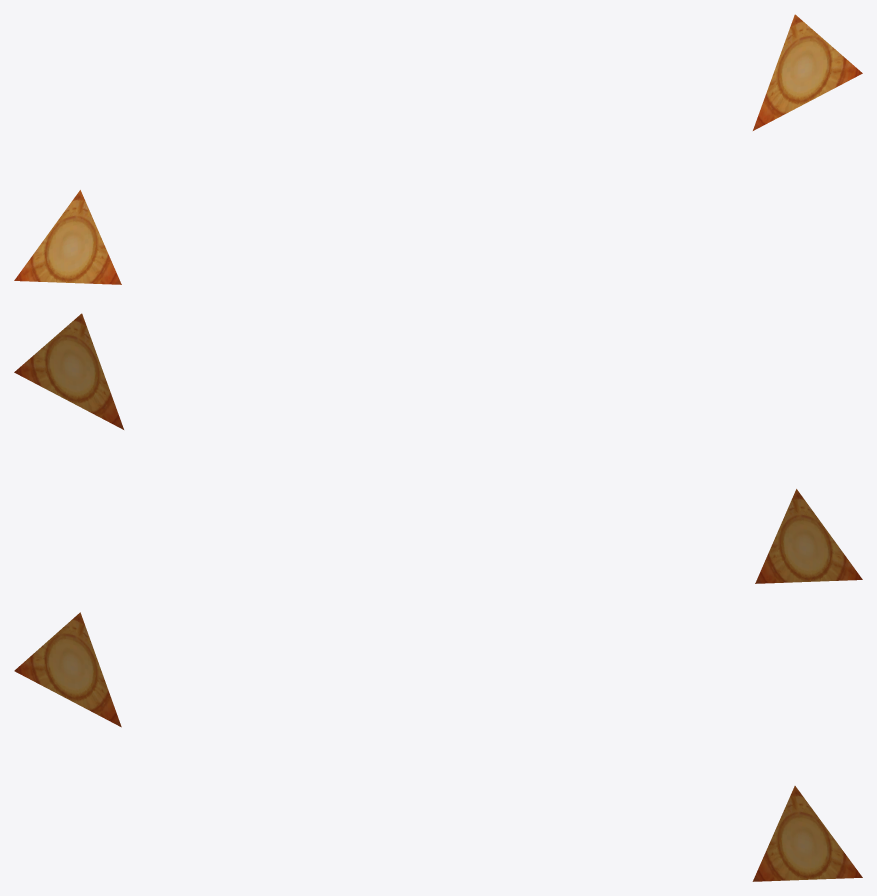
Rendered from hutt_fighter_medium_engine_s02_on_l3.fbx.
3 renders of one model, top to bottom at view 1: azimuth 30°, elevation 25°; view 2: azimuth 150°, elevation 25°; view 3: azimuth 330°, elevation 25°, orthographic.
Parts seen in each view (by area): view 1: mesh_node; view 2: mesh_node; view 3: mesh_node.
Boxes of the visible parts, x1,y1,x2,y2 form: mesh_node: [14, 14, 862, 284]; mesh_node: [14, 313, 862, 583]; mesh_node: [14, 612, 862, 881].
Bounding box in the file's own units: 3.87 × 0.4649 × 0.
Materials: 1 (1 with a texture image).
